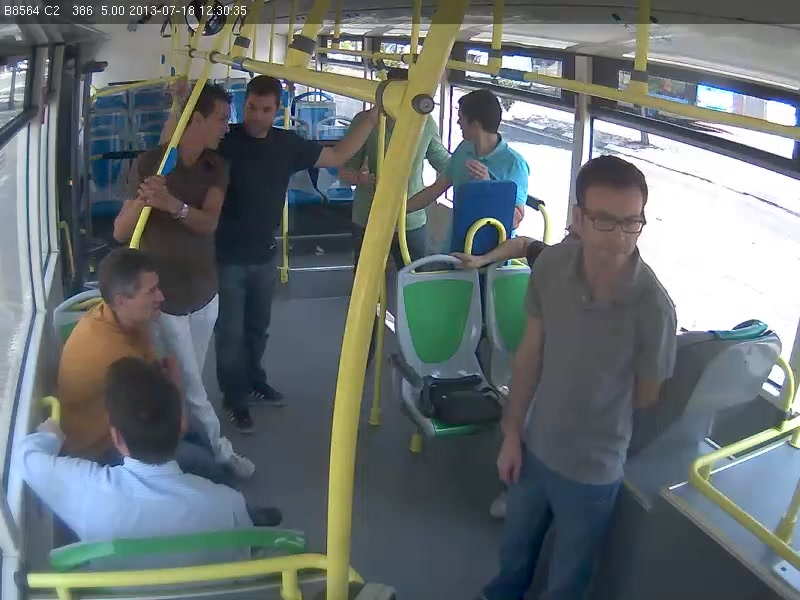Head: (94, 348, 190, 479), (565, 151, 654, 282), (94, 242, 181, 334), (176, 79, 233, 166), (447, 82, 507, 154), (236, 70, 286, 143)
